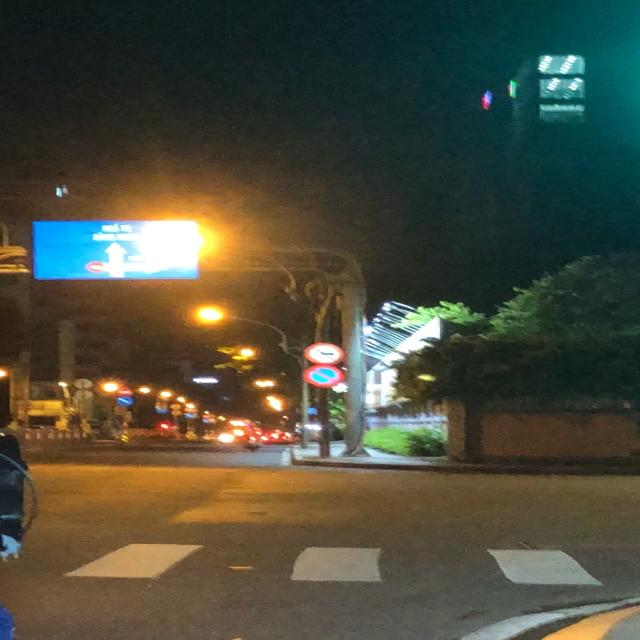Bien bao cam do xe: (300, 364, 350, 391)
Bien bao cam xe so-mi ro-mooc: (296, 341, 349, 366)
